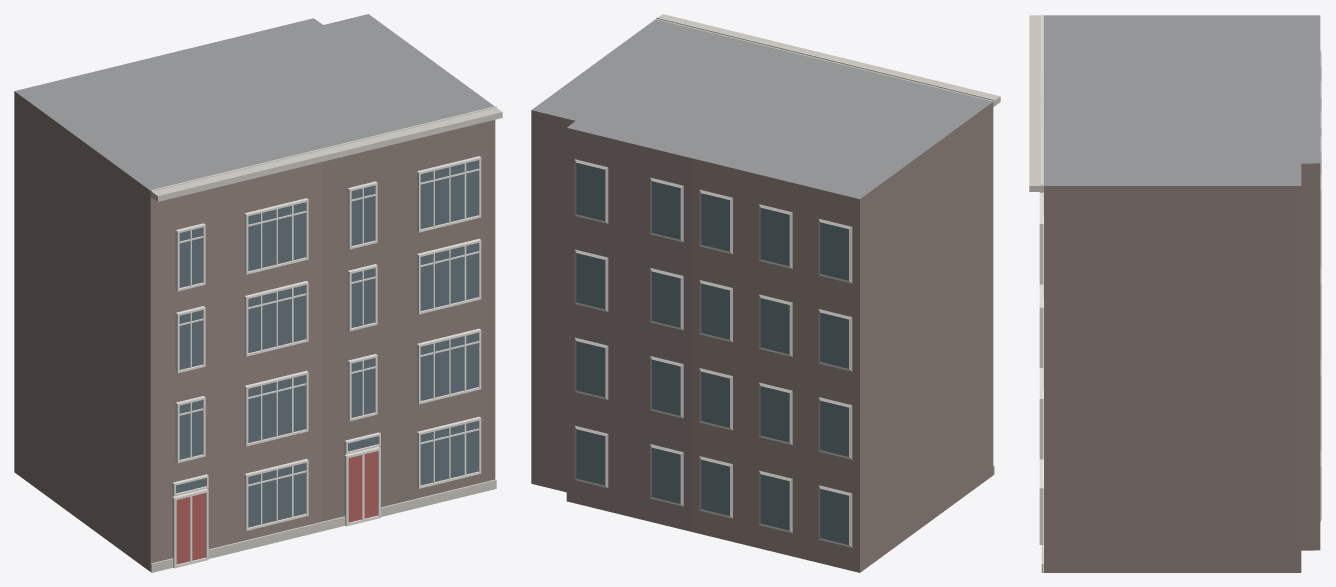
The model's file is chunk-face-retief-194-268-r1.glb.
The picture shows the model from 3 angles, left to right: view 1: azimuth 30°, elevation 25°; view 2: azimuth 150°, elevation 25°; view 3: azimuth 270°, elevation 25°; orthographic projection. The views are drawn at different scales.
Parts seen in each view (by area): view 1: face-retief-194-268-r1; view 2: face-retief-194-268-r1; view 3: face-retief-194-268-r1.
Boxes of the visible parts, x1,y1,x2,y2 form: face-retief-194-268-r1: (14, 14, 502, 572); face-retief-194-268-r1: (531, 14, 1000, 572); face-retief-194-268-r1: (1029, 14, 1321, 572).
Size of the model in its own units: 12.34 by 13.08 by 8.93.
